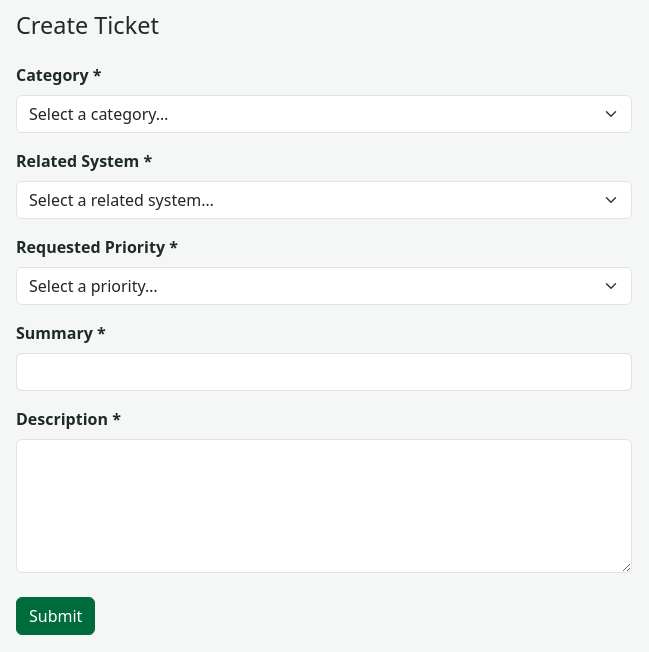
it: CreateTicket › shows a busy state while submitting and disables the button
Step 1. Select "Hardware" in the dropdown labelled "Category *" → x=324, y=114, box 16,95 -> 632,133
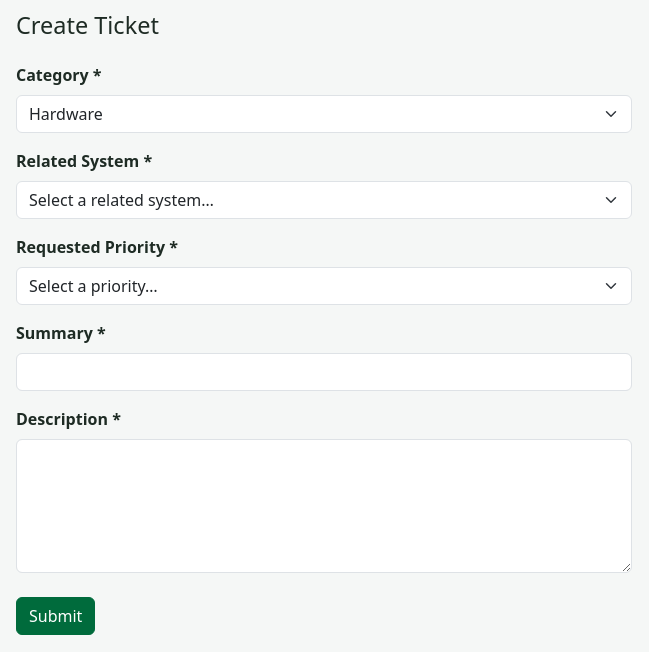
Step 2. Select "Corporate Laptop" in the dropdown labelled "Related System *" → x=324, y=200, box 16,181 -> 632,219
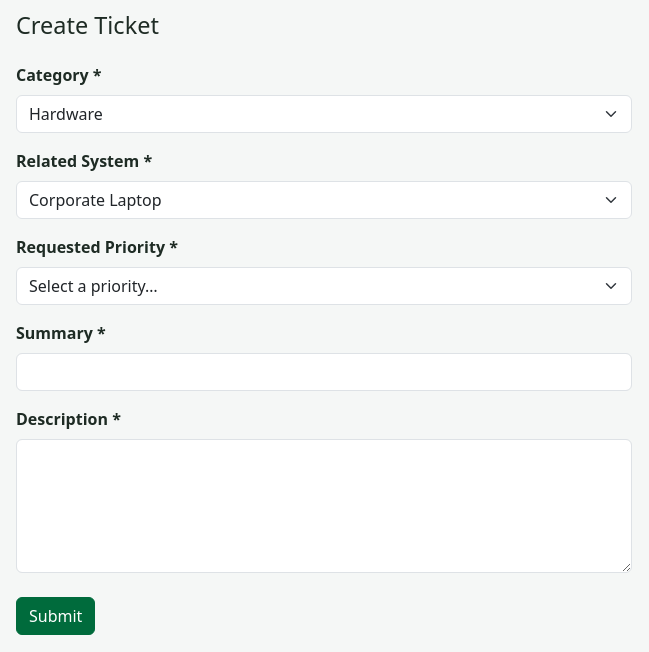
Step 3. Select "Medium" in the dropdown labelled "Requested Priority *" → x=324, y=286, box 16,267 -> 632,305
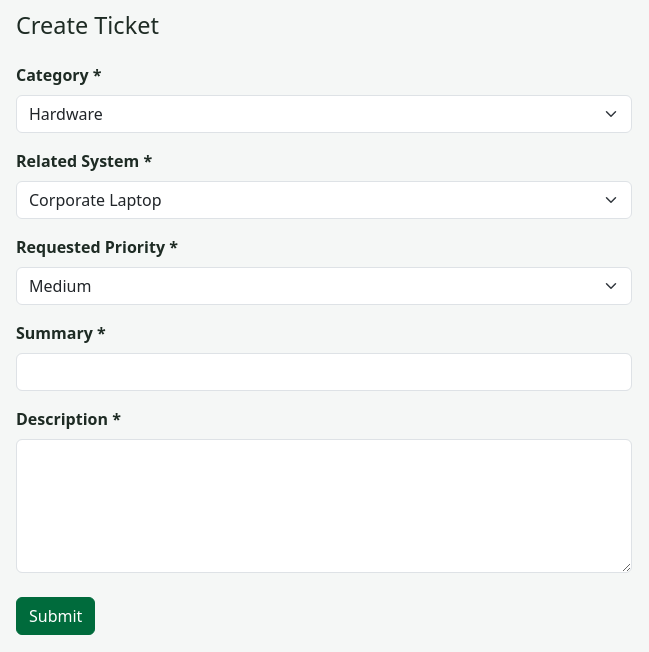
Step 4. Type "Laptop battery drains quickly" into the field labelled "Summary *" → x=324, y=372, box 16,353 -> 632,391
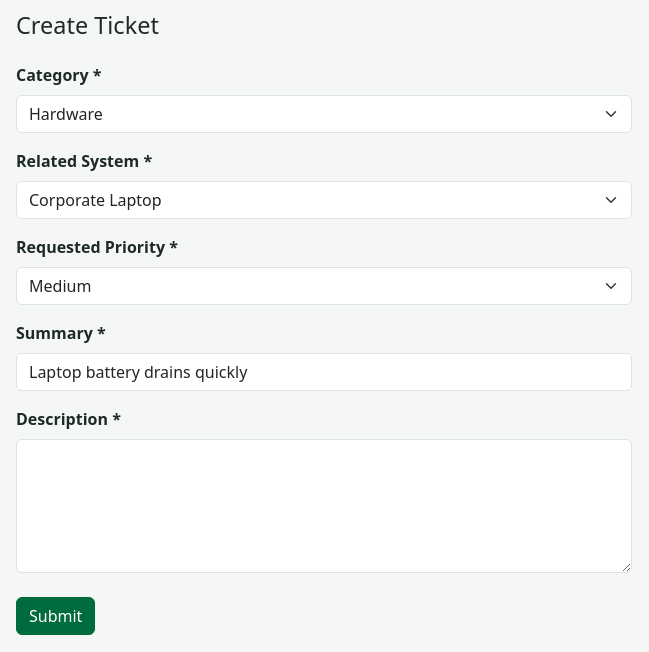
Step 5. Type "Battery drains much faster than usual even when the system is idle." into the text box labelled "Description *" → x=324, y=506, box 16,439 -> 632,573
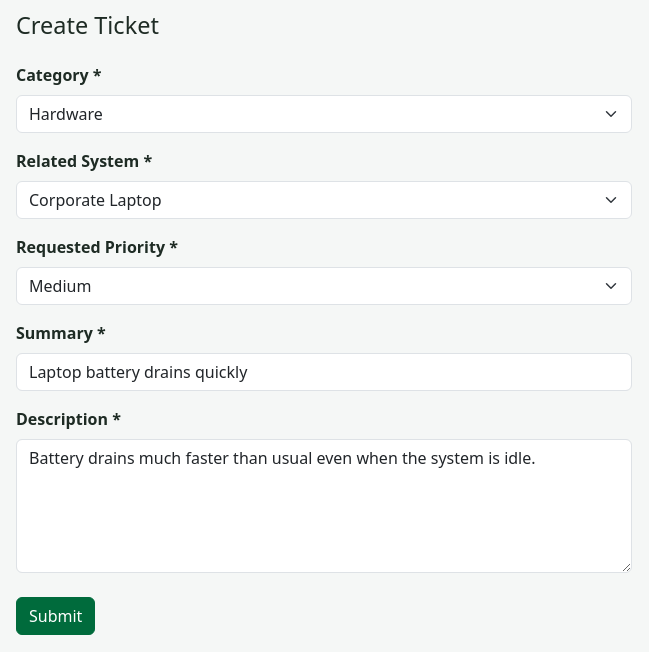
Step 6. Click the button "Submit" → x=56, y=616, box 16,597 -> 95,635
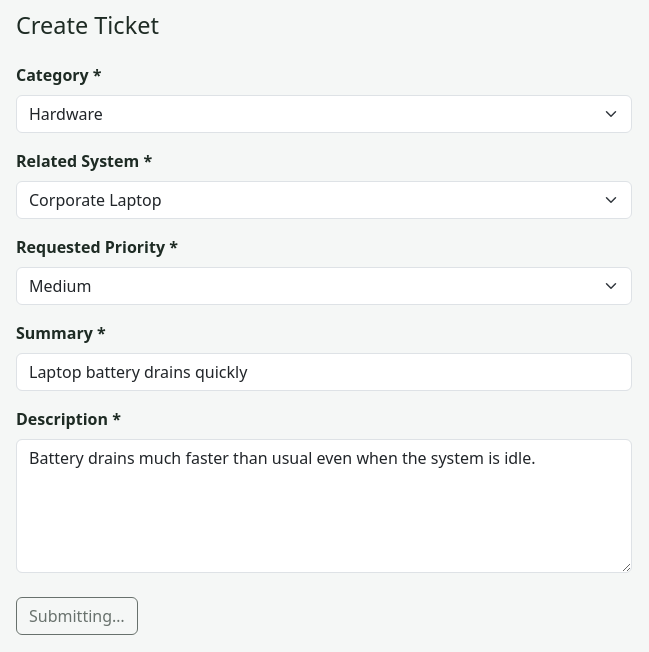
Result: the button "Submitting…" is disabled at 16,597 -> 138,635
